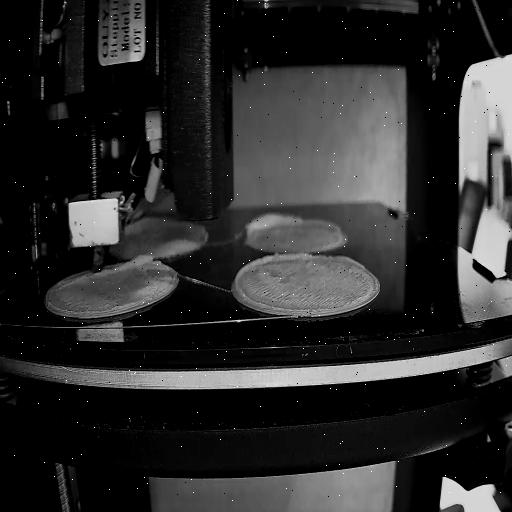over_extrusion: (235, 250, 308, 314), (62, 250, 152, 289), (241, 209, 304, 246), (333, 252, 366, 270)
